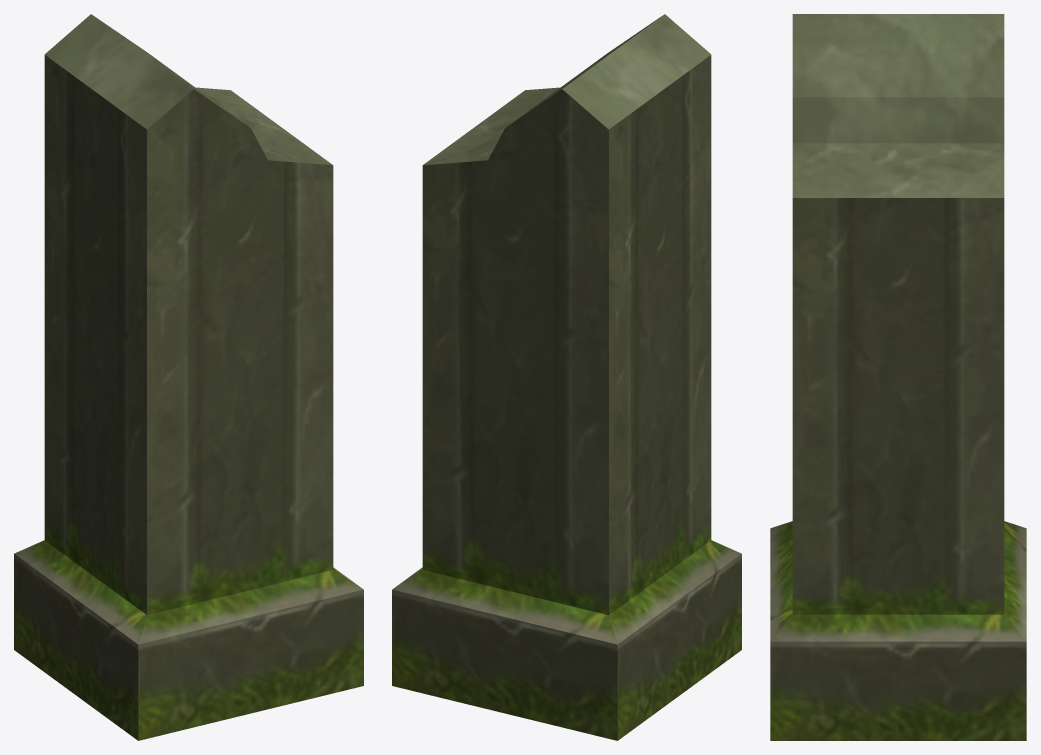
The model's file is qiang13_01.FBX.
3 views of the same model, side by side, from view 1: azimuth 30°, elevation 25°; view 2: azimuth 150°, elevation 25°; view 3: azimuth 270°, elevation 25° (orthographic). The views are drawn at different scales.
Visible parts, largest first — view 1: qiang13_01; view 2: qiang13_01; view 3: qiang13_01.
Part boxes in pixels (x1,y1,x2,y2): qiang13_01: (14,14,363,740); qiang13_01: (392,14,741,740); qiang13_01: (770,14,1026,740).
Size of the model in its own units: 114 by 304 by 109.
1 material, 1 textured.
